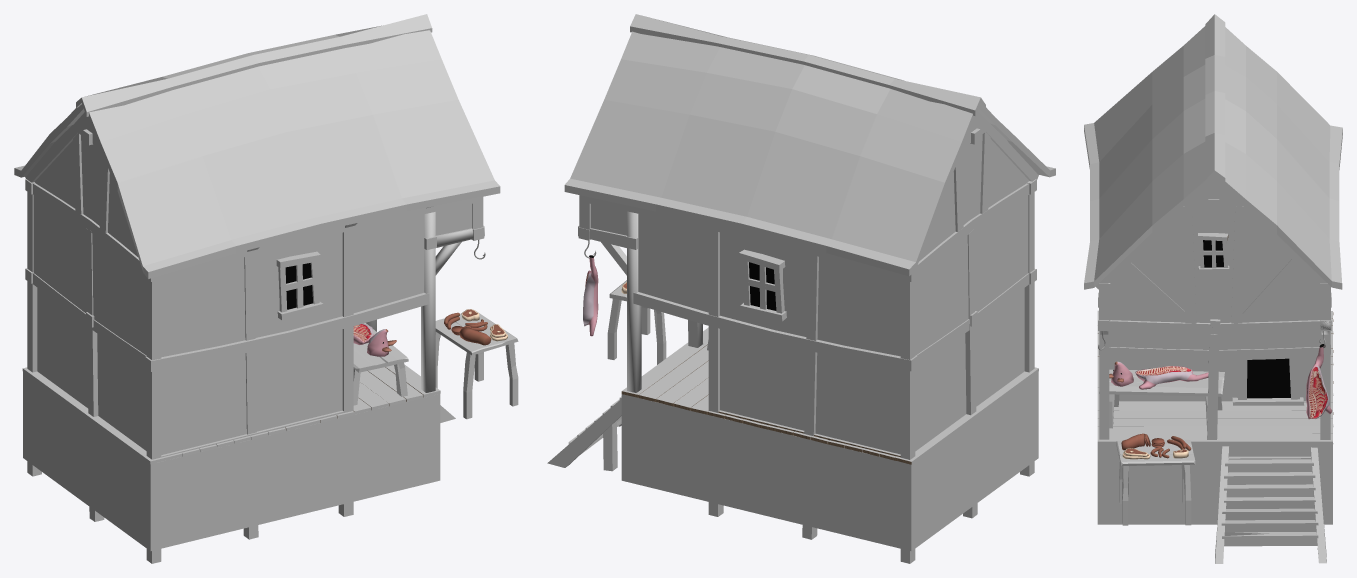
Rendered from Butcher2.fbx.
The picture shows the model from 3 angles, left to right: view 1: azimuth 30°, elevation 25°; view 2: azimuth 150°, elevation 25°; view 3: azimuth 270°, elevation 25°; orthographic projection. The views are drawn at different scales.
Visible parts, largest first — view 1: Step_3.001, Step_4.001, Foundation, Post.045, Roof.001, Walls.003, Hanging.005, Plank.001, Table.001, Step_2.002, Step_1.002, Window.001 (+5 smaller); view 2: Step_3.001, Step_4.001, Foundation, Post.045, Walls.001, Step_2.002, Walls.003, Roof.001, Hanging.003, Step_1.002, Stair.001, Step_2.001 (+5 smaller); view 3: Step_3.001, Step_4.001, Post.045, Stair.001, Foundation, Step_2.002, Plank.001, Roof.001, Table.001, Table.002, Step_1.002, Hanging.003 (+5 smaller).
Part boxes in pixels (x1,y1,x2,y2): Step_3.001: (15,14,499,271); Step_4.001: (33,195,471,454); Foundation: (23,371,440,551); Post.045: (25,112,484,563); Roof.001: (14,104,500,278); Walls.003: (35,135,456,257); Hanging.005: (421,212,485,392); Plank.001: (22,364,440,464); Table.001: (435,311,518,419); Step_2.002: (23,365,435,460); Step_1.002: (26,232,428,539); Window.001: (276,252,323,319); Step_3.001: (565,14,1055,269); Step_4.001: (591,135,1028,453); Foundation: (621,372,1038,551); Post.045: (578,111,1038,563); Walls.001: (720,313,940,454); Step_2.002: (621,327,964,464); Walls.003: (591,134,1028,261); Roof.001: (564,104,1055,276); Hanging.003: (583,211,641,392); Step_1.002: (634,232,1036,539); Stair.001: (547,396,621,471); Step_2.001: (578,114,1036,281); Step_3.001: (1084,14,1342,287); Step_4.001: (1109,208,1320,405); Post.045: (1095,180,1331,369); Stair.001: (1215,446,1326,563); Foundation: (1097,444,1332,524); Step_2.002: (1097,310,1333,441); Plank.001: (1097,315,1333,444); Roof.001: (1084,126,1342,289); Table.001: (1116,439,1195,525); Table.002: (1099,369,1224,430); Step_1.002: (1099,331,1330,439); Hanging.003: (1306,321,1331,419).
Size of what is drawn, in the model's own units: 584 by 973 by 940.
